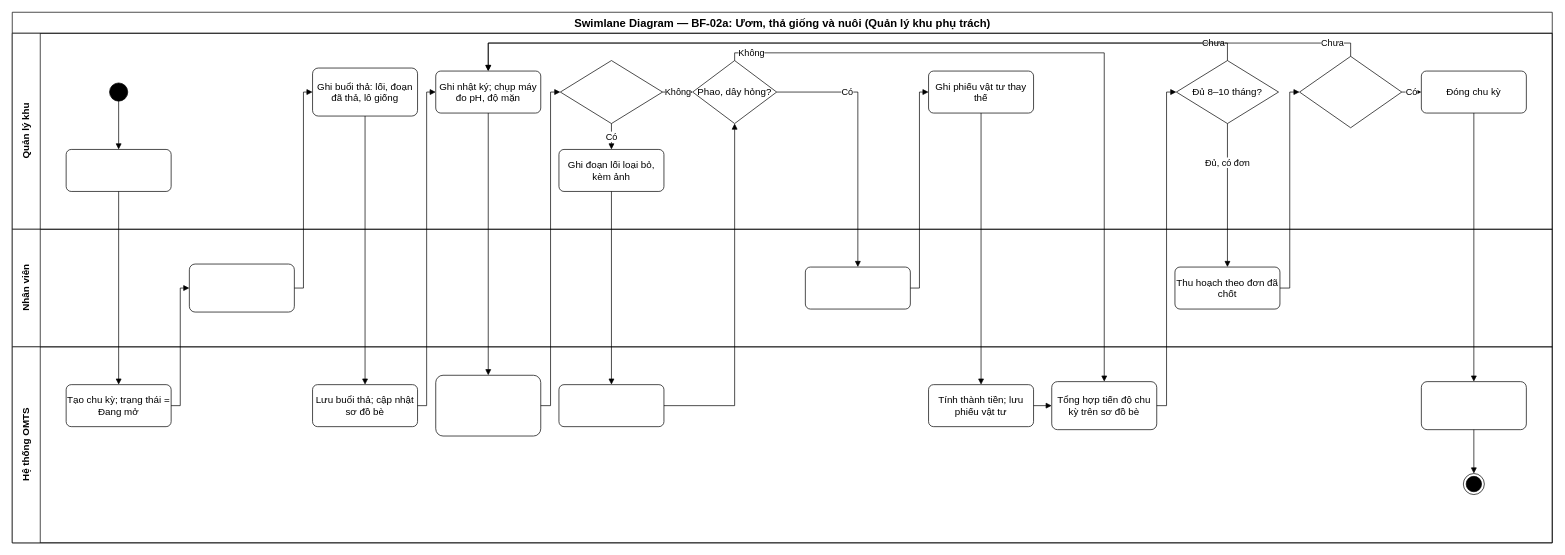
Image size: 1565x555. Some labels were removed from this diagram. Here are the shapes that lost their labels. From the top down, the centre of each, then its label:
At point 611,92: "Hàu chết, đoạn lối hỏng?".
At point 1350,92: "Mọi đoạn lối đã thu hoặc loại bỏ?".
At point 118,170: "Mở chu kỳ nuôi trên bè".
At point 241,287: "Treo giống lên bè ươm (~15 ngày), thả theo lối".
At point 857,287: "Thay phao, dây hỏng".
At point 488,405: "Lưu chỉ số nước; vượt ngưỡng thì cảnh báo Chủ HTX, quản lý khu".
At point 611,405: "Lưu đoạn lối đã loại bỏ".
At point 1473,405: "Chu kỳ = Đã đóng; bè mở được chu kỳ mới".
